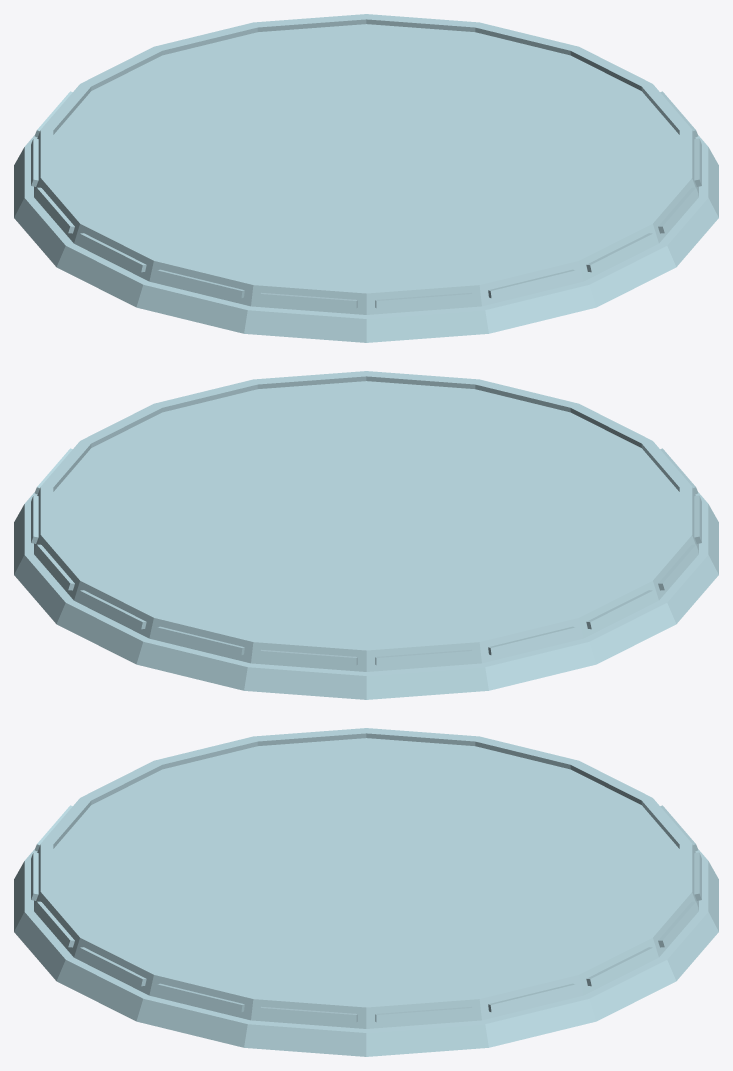
File: platform.fbx
The picture shows the model from 3 angles, top to bottom: view 1: azimuth 30°, elevation 25°; view 2: azimuth 150°, elevation 25°; view 3: azimuth 270°, elevation 25°; orthographic projection.
Visible parts, largest first — view 1: Platform; view 2: Platform; view 3: Platform.
Part boxes in pixels (x1=…): Platform: x1=14, y1=14, x2=718, y2=342; Platform: x1=14, y1=371, x2=718, y2=699; Platform: x1=14, y1=728, x2=718, y2=1056.
Size of the model in its own units: 385 by 22.53 by 379.
